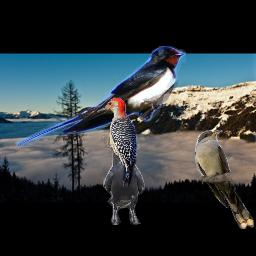Crow: (103, 142, 145, 225)
Cuckoo: (195, 130, 254, 229)
Swallow: (14, 46, 186, 147)
Woodpecker: (97, 97, 137, 187)
